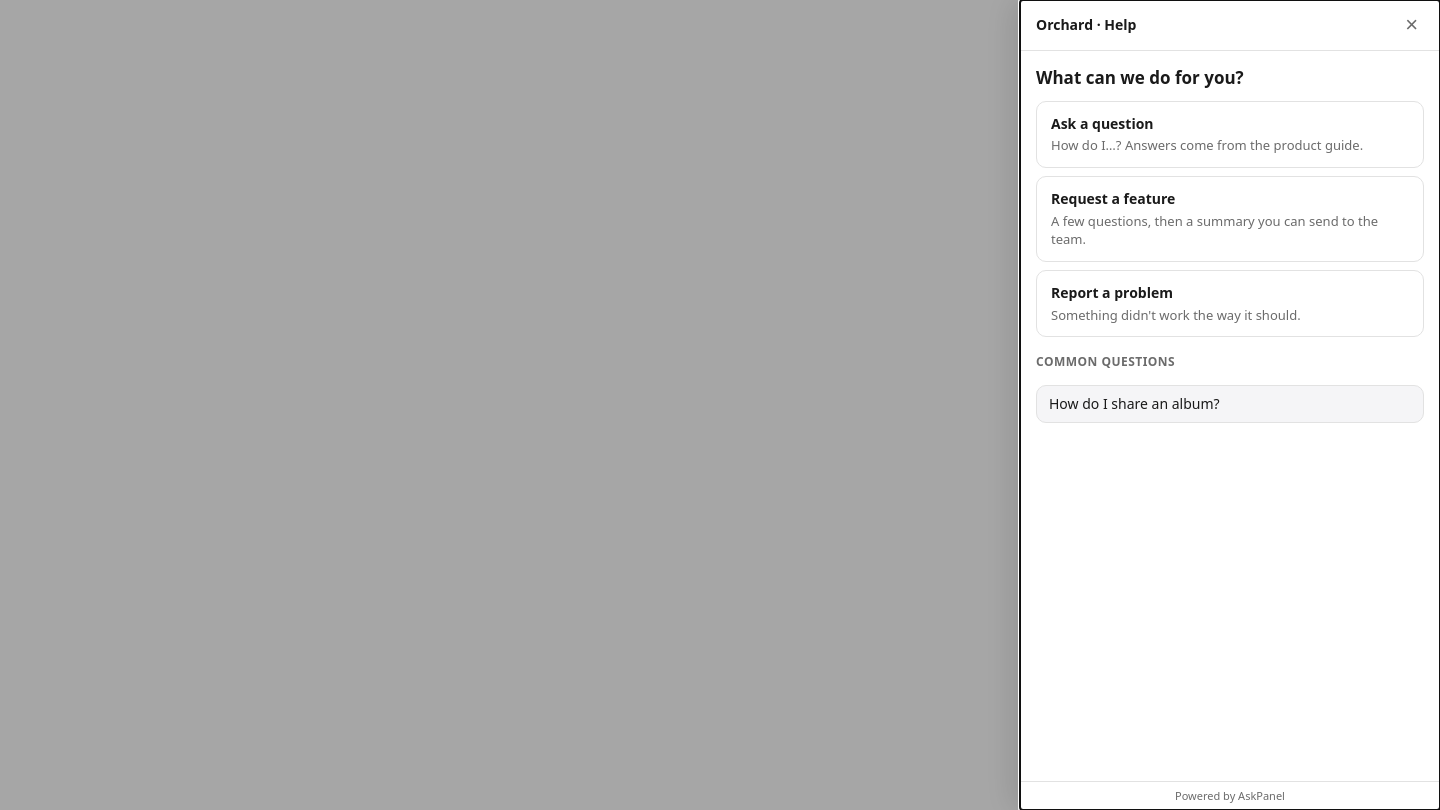
Test: AskPanel › starter questions open help and send immediately
Step 1. Click the button "How do I share an album?" → (1134, 403), box [1036,385,1424,423]
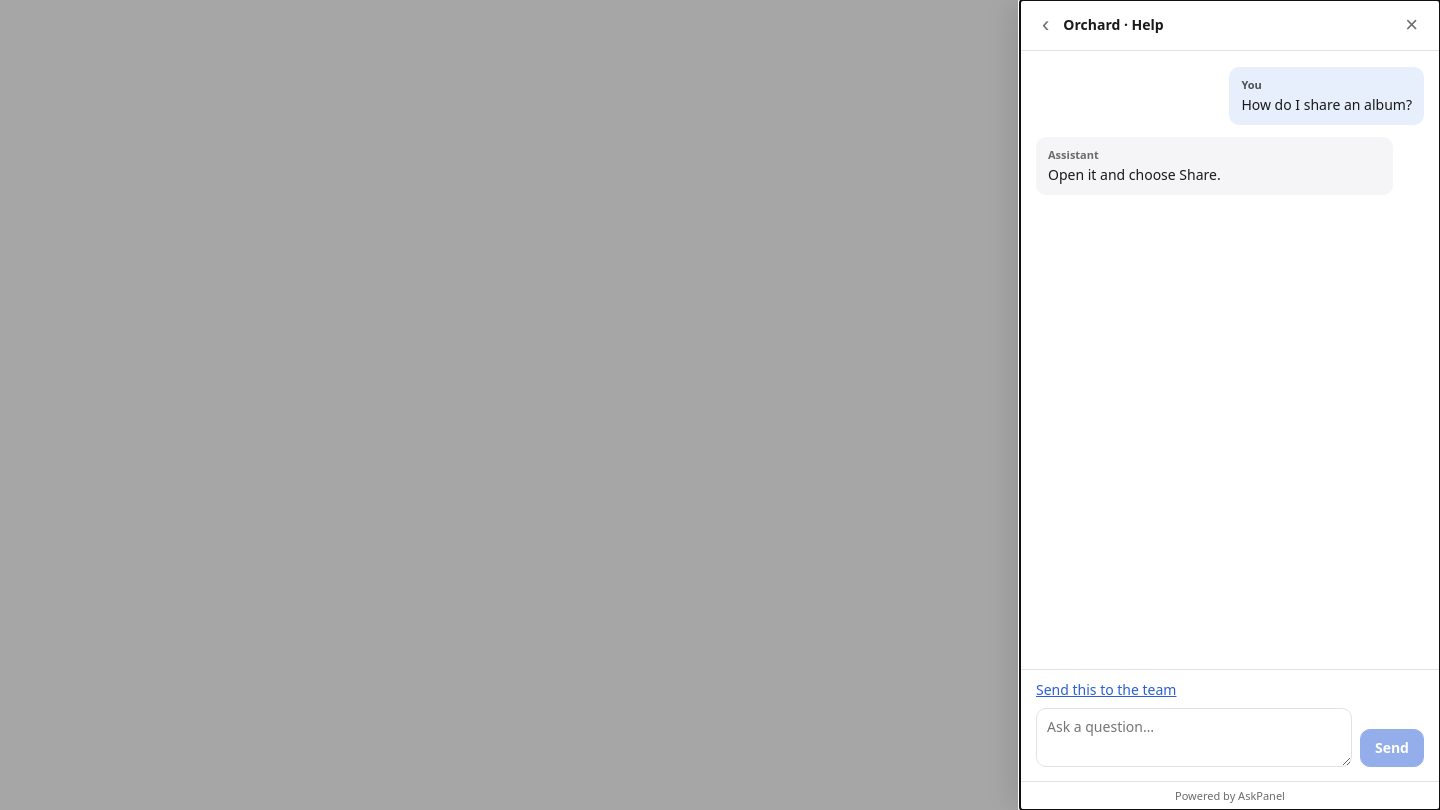
Expected: the text "Open it and choose Share." is shown, [1048,165,1221,184]
